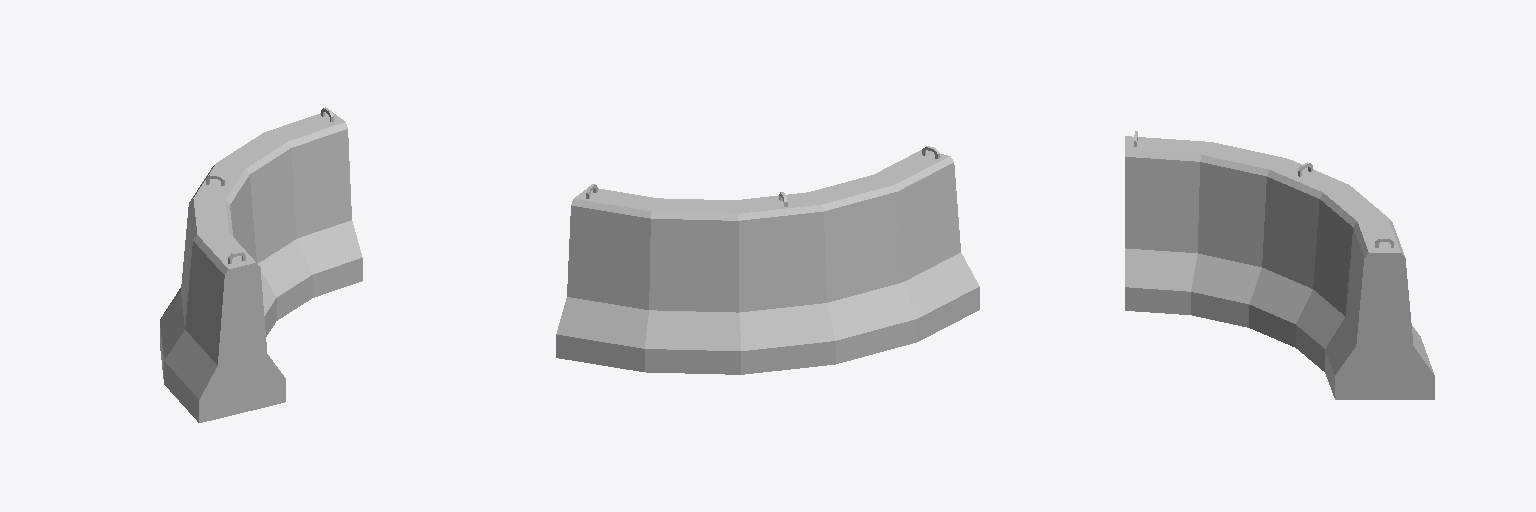
File: Block_B.obj
The picture shows the model from 3 angles: view 1: azimuth 30°, elevation 25°; view 2: azimuth 150°, elevation 25°; view 3: azimuth 270°, elevation 25°; orthographic projection.
Visible parts, largest first — view 1: Block_B; view 2: Block_B; view 3: Block_B.
Boxes of the visible parts, <box> form: Block_B: <box>160,107,362,422</box>; Block_B: <box>556,146,979,374</box>; Block_B: <box>1125,131,1434,399</box>.
Size of the model in its own units: 192 by 107 by 192.